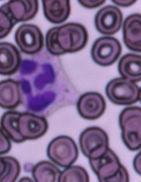N: (14, 50, 78, 117)
